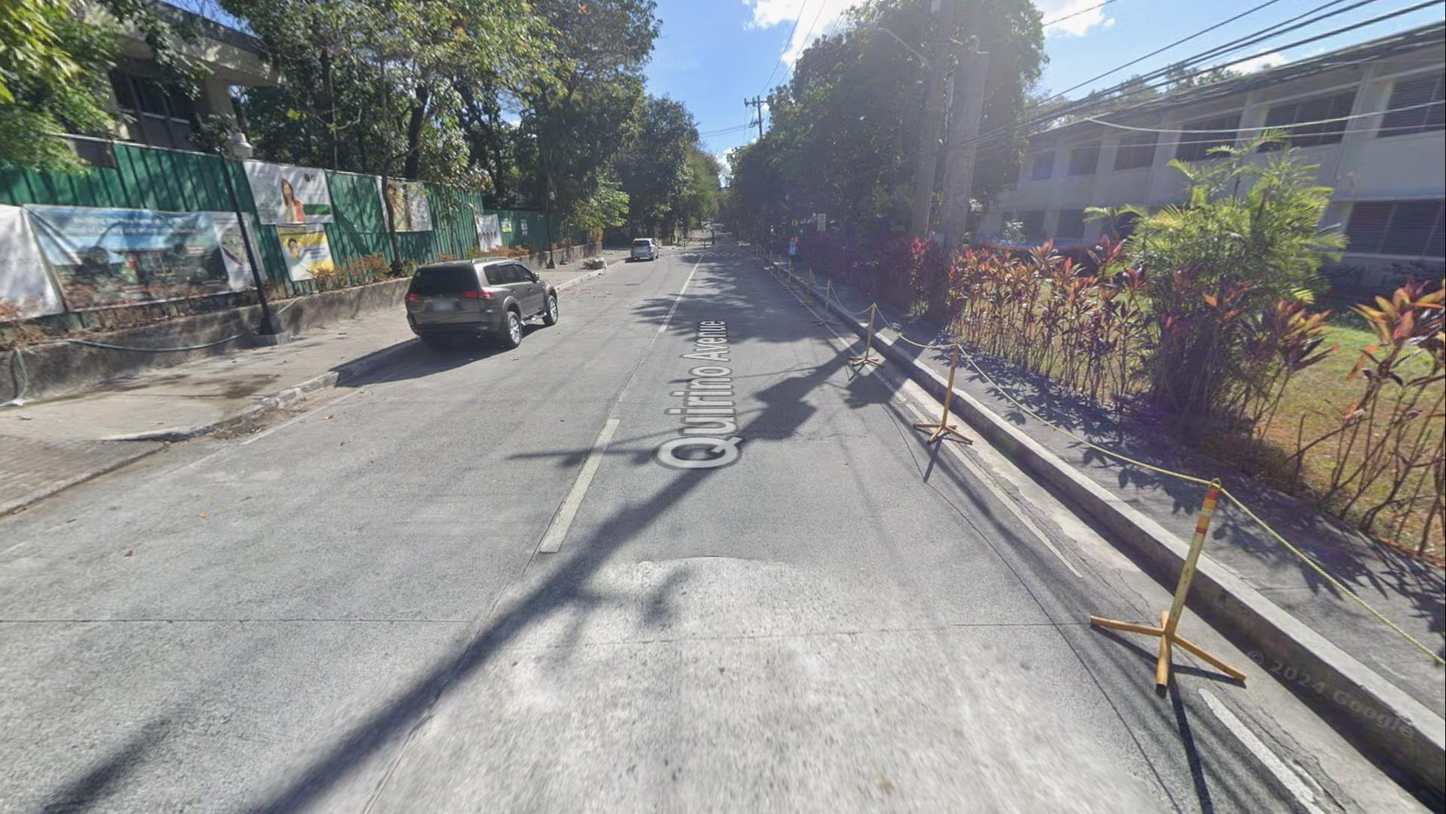pedestrian: (786, 235, 799, 276), (710, 230, 717, 248)
